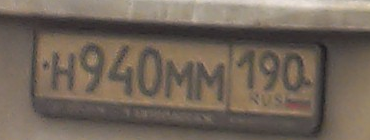character: (77, 38, 107, 96), (108, 44, 135, 101), (136, 45, 163, 101), (163, 58, 195, 104), (196, 59, 226, 105), (49, 48, 77, 95), (259, 46, 282, 93), (282, 47, 305, 94), (235, 46, 258, 92)
